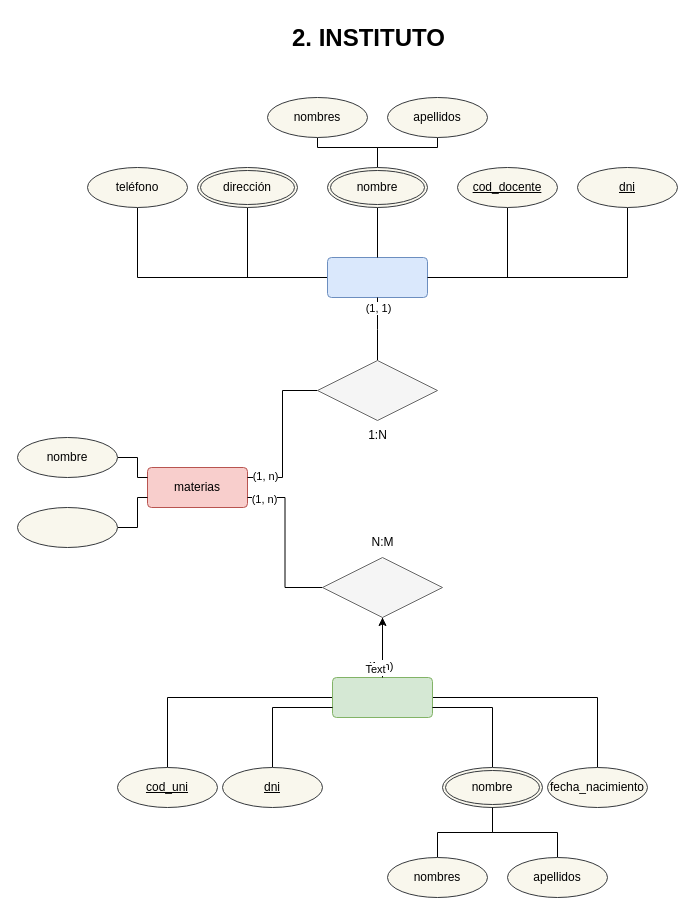
Image size: 695x915. Some labels were removed from this diagram. Each missing label, with the centre of its shape:
cod_materia: [67,527]
dicta: [377,390]
docentes: [377,277]
estudiantes: [382,697]
matricula: [382,587]
